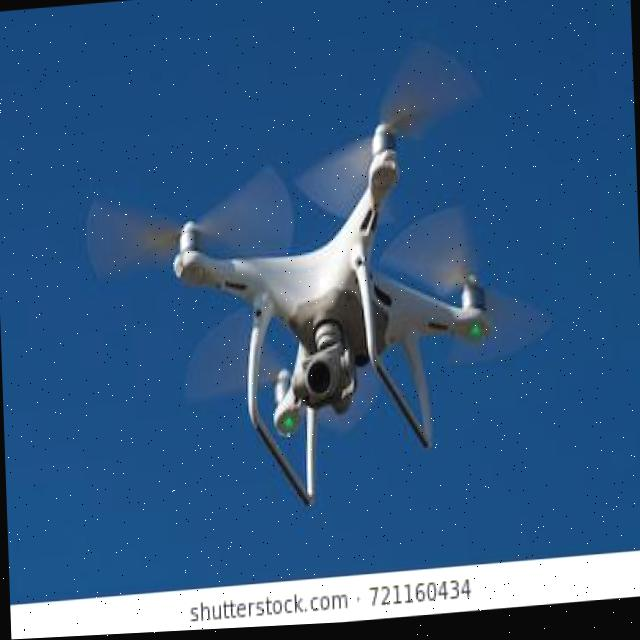drone: (62, 19, 538, 569)
